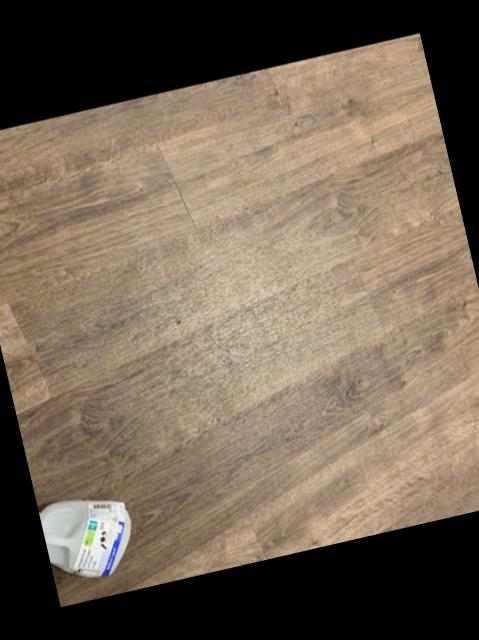plastic: (38, 499, 130, 575)
